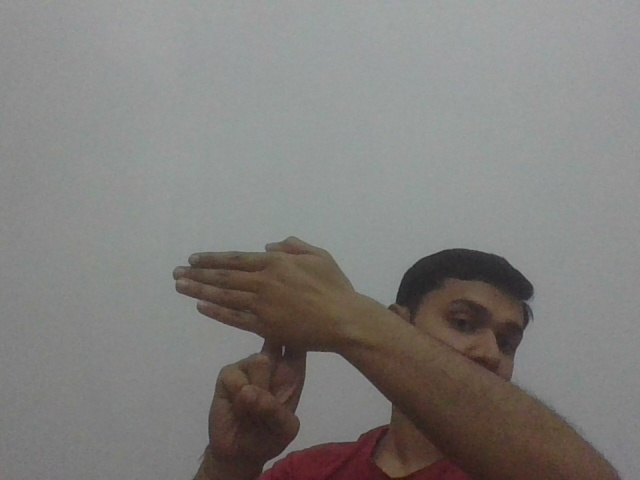N: (171, 234, 343, 365)
